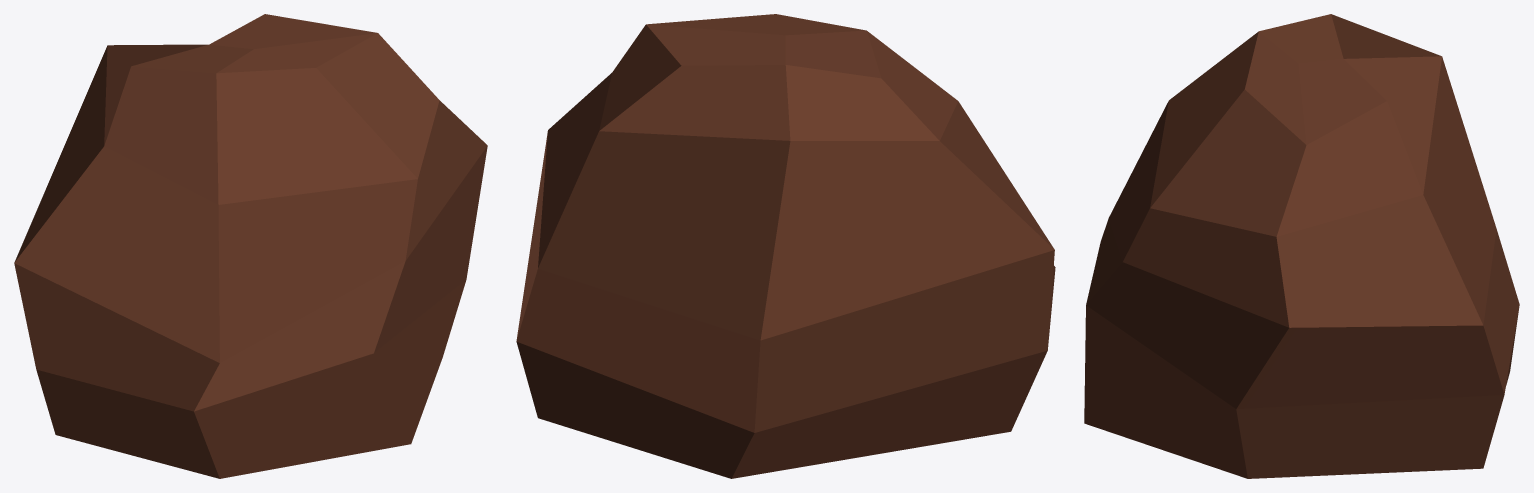
The model's file is RED_rock2.glb.
The picture shows the model from 3 angles, left to right: view 1: azimuth 30°, elevation 25°; view 2: azimuth 150°, elevation 25°; view 3: azimuth 270°, elevation 25°; orthographic projection. The views are drawn at different scales.
Parts seen in each view (by area): view 1: pSphere11; view 2: pSphere11; view 3: pSphere11.
Part boxes in pixels (<box>): pSphere11: <box>14,14,487,478</box>; pSphere11: <box>516,14,1055,478</box>; pSphere11: <box>1084,14,1519,478</box>.
Bounding box in the file's own units: 0.2365 × 0.1585 × 0.1848.
Materials: 1 (1 with a texture image).
